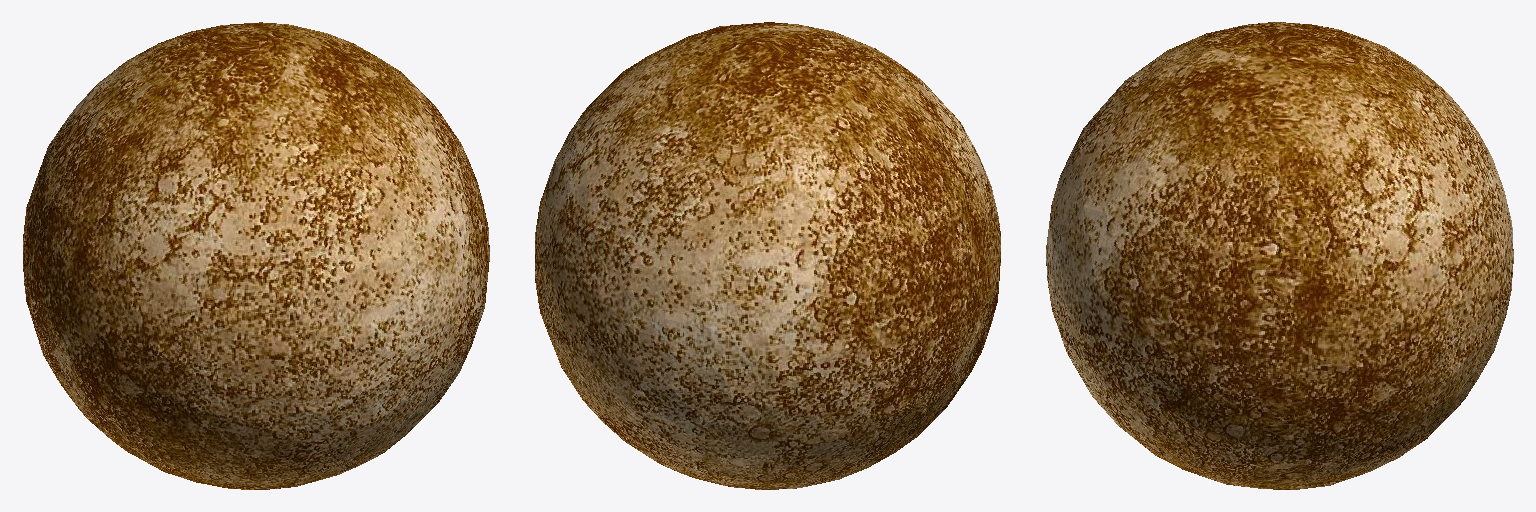
3 views of the same model, side by side, from view 1: azimuth 30°, elevation 25°; view 2: azimuth 150°, elevation 25°; view 3: azimuth 270°, elevation 25° (orthographic).
Visible parts, largest first — view 1: Mercury_Globe.012; view 2: Mercury_Globe.012; view 3: Mercury_Globe.012.
Boxes of the visible parts, <box> form: Mercury_Globe.012: <box>23,22,489,489</box>; Mercury_Globe.012: <box>535,22,1000,489</box>; Mercury_Globe.012: <box>1046,22,1513,489</box>.
Size of the model in its own units: 9.77 by 9.77 by 9.77.
1 materials, 1 textured.